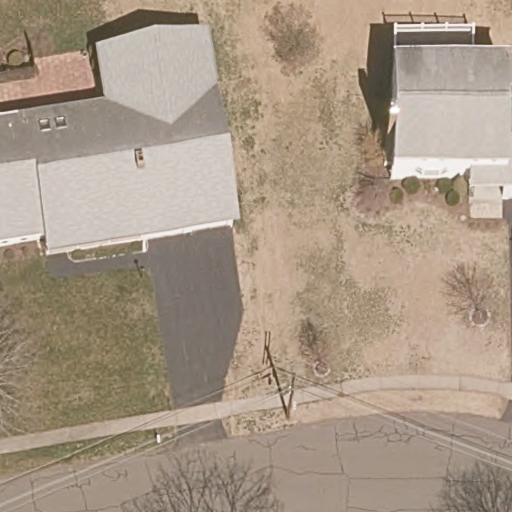DT: (283, 371, 298, 421)
